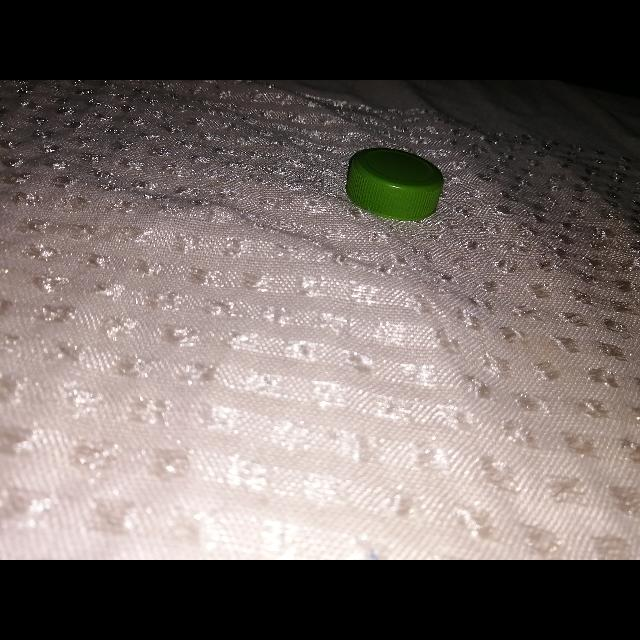plastic_bottle_cap: (347, 147, 445, 223)
